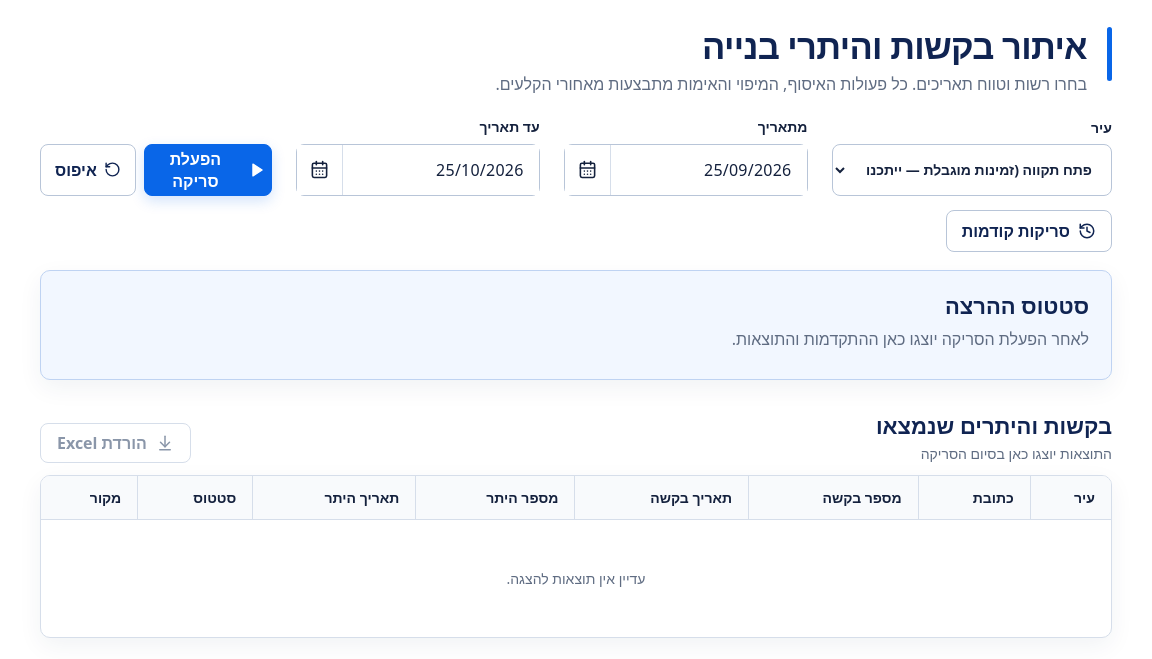
retains the results request when polling changes the status to completed
The width and height of the screenshot is (1152, 659).
Click the button "הפעלת סריקה".
click(208, 170)  # box 144,144 -> 272,196
(page scrolled)
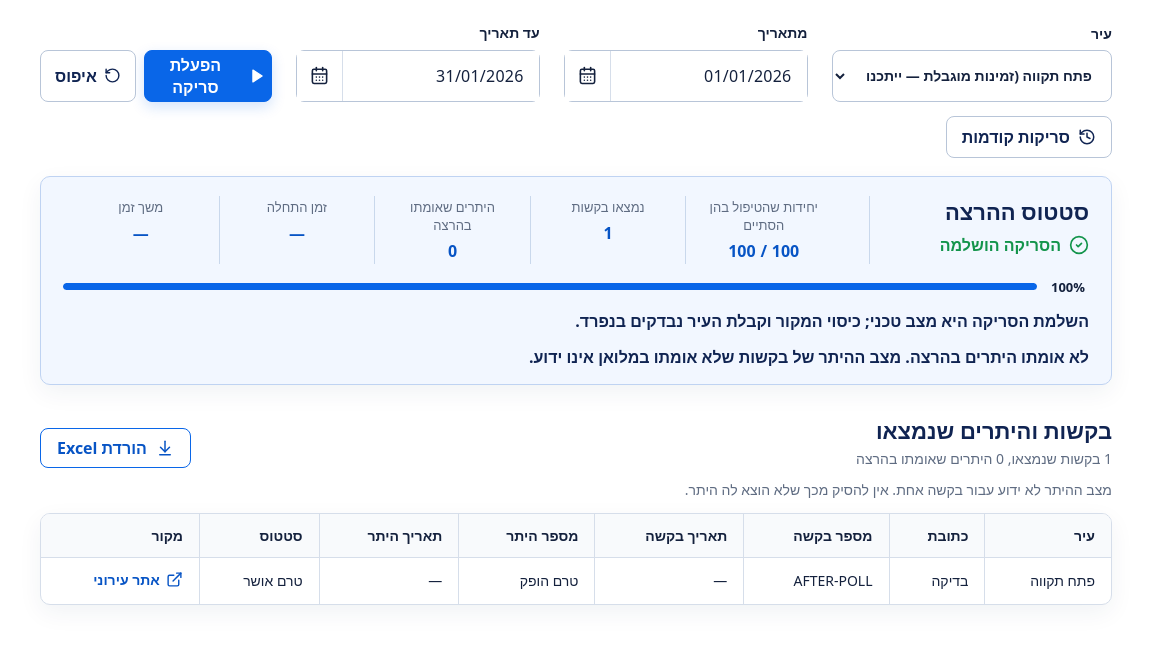
Expected: the text "הסריקה הושלמה" is shown, 940,234 -> 1089,256
Expected: the text "AFTER-POLL" is shown, 744,557 -> 889,604
